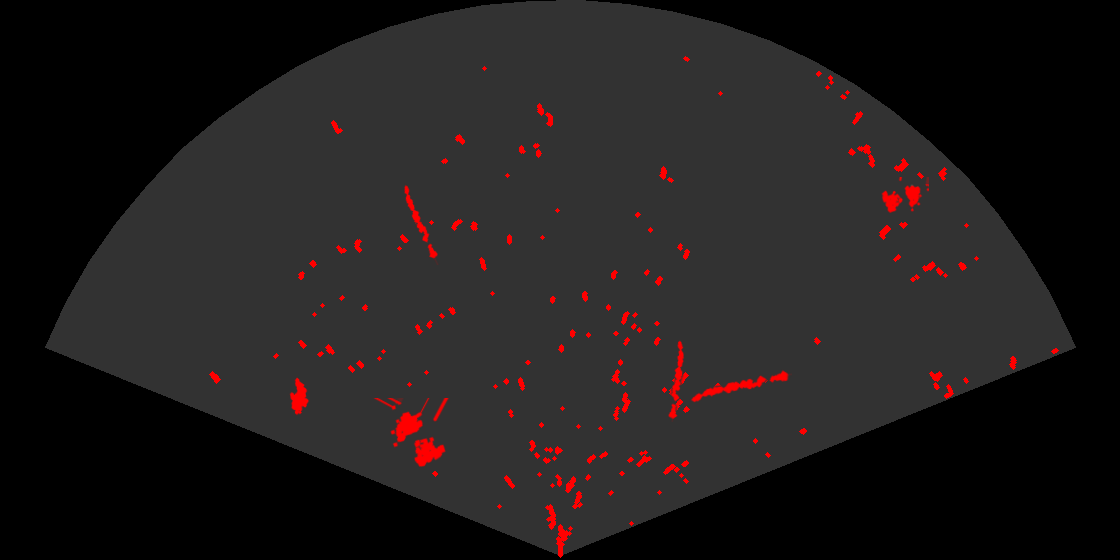AUV: (288, 376, 311, 417)
cage: (372, 398, 451, 469), (880, 177, 929, 215)
chain: (689, 368, 792, 404), (403, 183, 440, 265), (667, 339, 686, 422)
